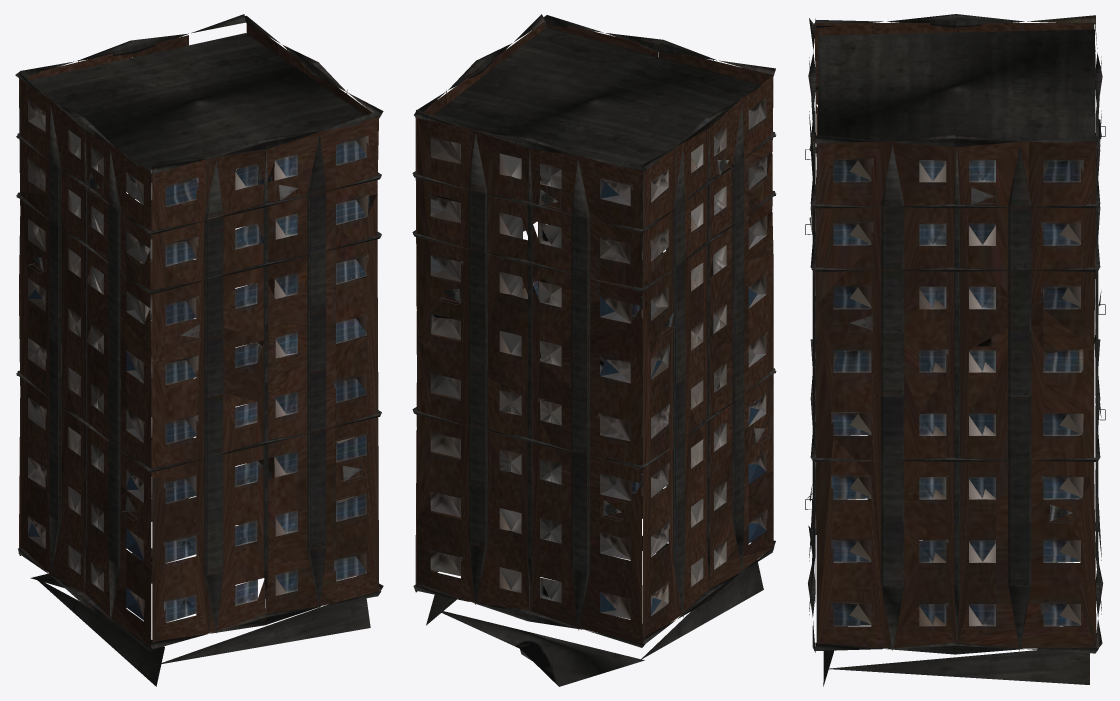
Rendered from city_tower_3.glb.
3 views of the same model, side by side, from view 1: azimuth 30°, elevation 25°; view 2: azimuth 150°, elevation 25°; view 3: azimuth 270°, elevation 25° (orthographic). The views are drawn at different scales.
Visible parts, largest first — view 1: CityTower3; view 2: CityTower3; view 3: CityTower3.
Part boxes in pixels (x1,y1,x2,y2): CityTower3: [15, 14, 383, 686]; CityTower3: [412, 14, 776, 686]; CityTower3: [805, 14, 1105, 686].
Size of the model in its own units: 12.88 by 27.77 by 12.88.
1 material, 1 textured.
